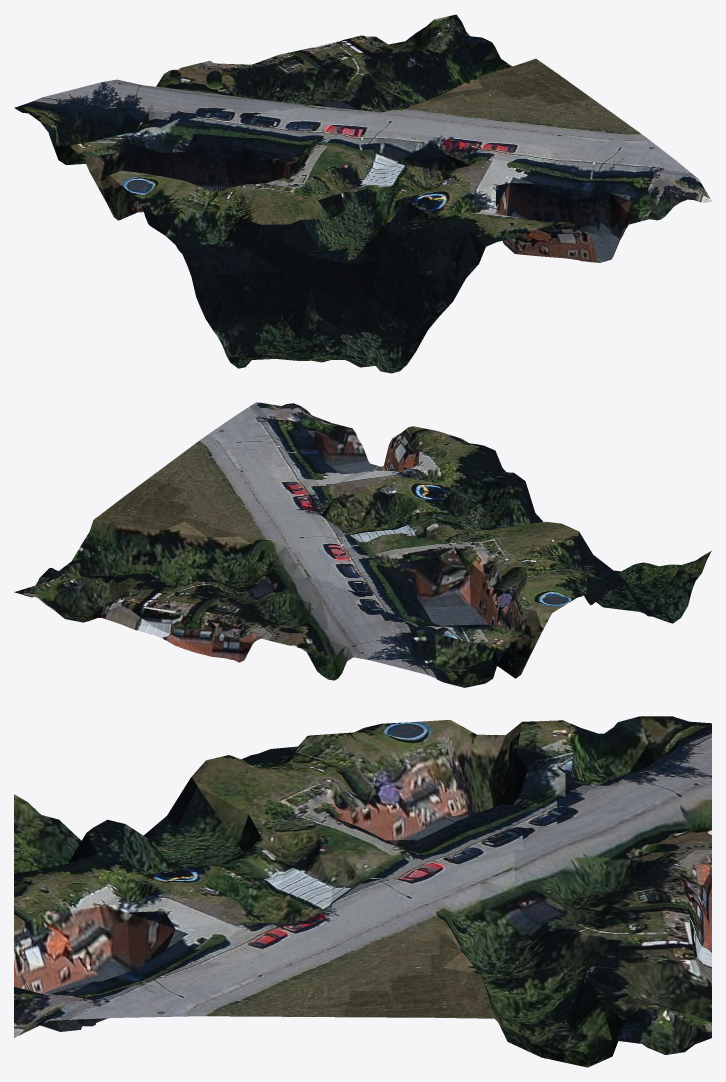
The model's file is map_15_8187_13789.dae.
3 views of the same model, one above another, from view 1: azimuth 30°, elevation 25°; view 2: azimuth 150°, elevation 25°; view 3: azimuth 270°, elevation 25° (orthographic). The views are drawn at different scales.
Visible parts, largest first — view 1: Ter0; view 2: Ter0; view 3: Ter0.
Boxes of the visible parts, box(x1,y1,x2,y2) form: Ter0: box(14, 14, 711, 373); Ter0: box(14, 402, 711, 687); Ter0: box(14, 716, 711, 1067).
Size of the model in its own units: 63.87 by 63.88 by 15.93.
Materials: 3 (3 with a texture image).
